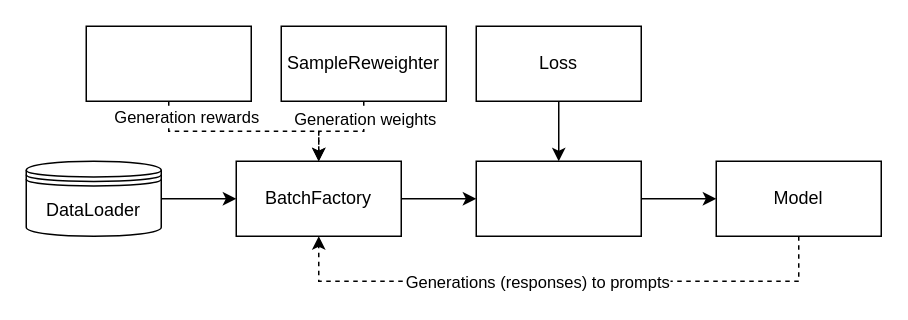
Image size: 908x320. Some labels were removed from this diagram. The centre of each missing label's shape, as x and y in pixels:
Annotator: point 168,63
Trainer: point 558,198
